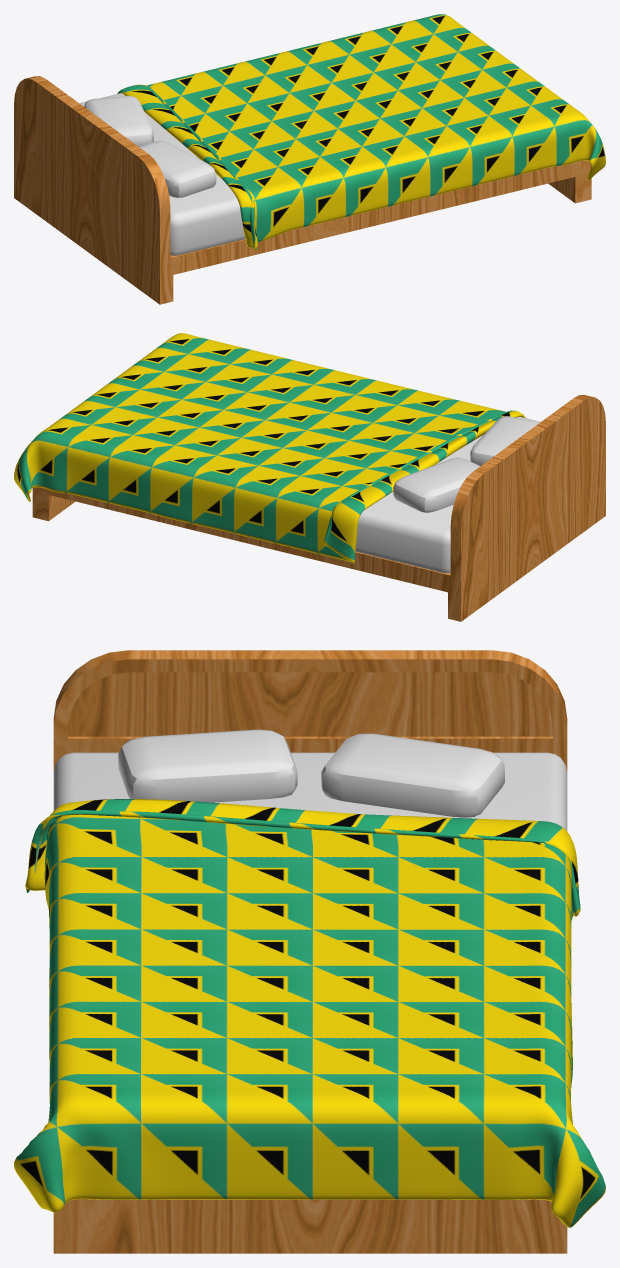
File: Bed.fbx
3 renders of one model, top to bottom at view 1: azimuth 30°, elevation 25°; view 2: azimuth 150°, elevation 25°; view 3: azimuth 270°, elevation 25°, orthographic. The views are drawn at different scales.
Visible parts, largest first — view 1: Bed; view 2: Bed; view 3: Bed.
Boxes of the visible parts, bbox=[...] form: Bed: bbox=[14, 14, 605, 304]; Bed: bbox=[14, 333, 605, 621]; Bed: bbox=[14, 650, 605, 1253].
Size of the model in its own units: 1076 by 300 by 692.
Materials: 4 (2 with a texture image).
